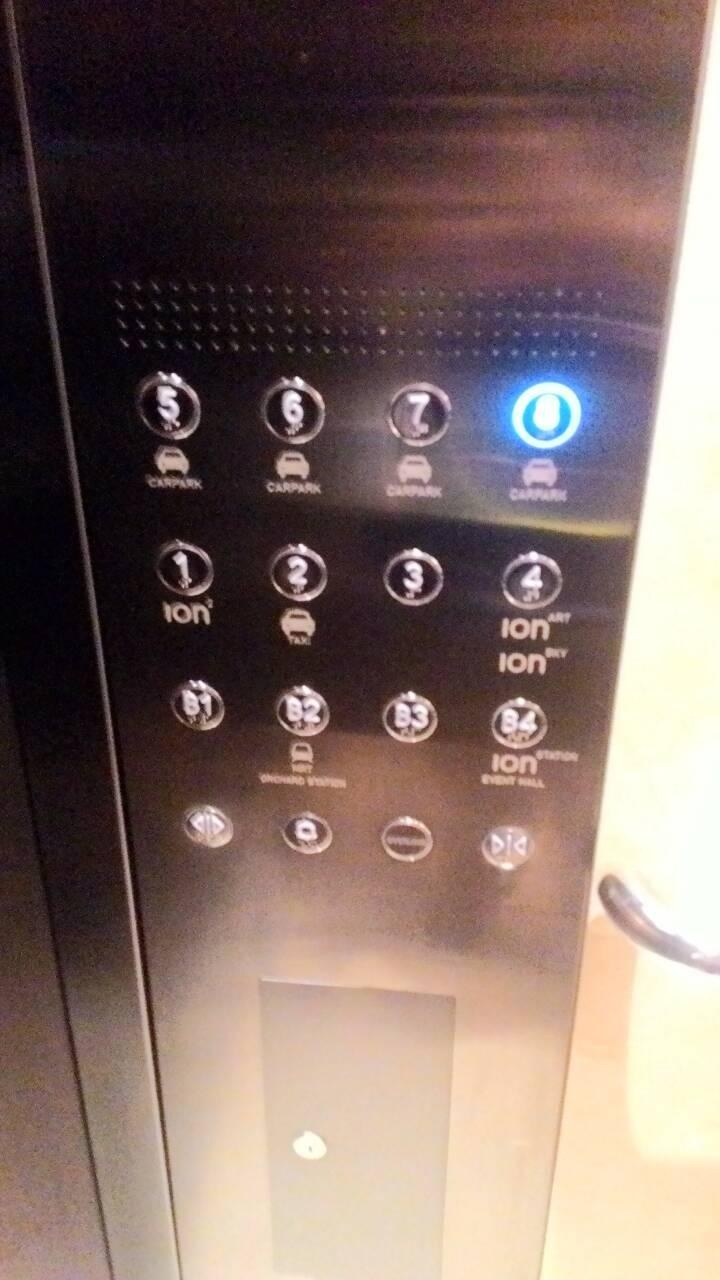1: (151, 534, 217, 599)
2: (266, 539, 332, 604)
3: (381, 543, 447, 608)
4: (499, 547, 565, 612)
5: (133, 366, 207, 445)
6: (257, 370, 331, 449)
7: (383, 373, 457, 452)
8: (511, 374, 585, 453)
B1: (166, 675, 229, 734)
B2: (271, 681, 334, 740)
B3: (380, 686, 443, 745)
B4: (487, 693, 550, 752)
alarm: (277, 806, 336, 858)
blur: (376, 810, 438, 868)
close: (478, 817, 540, 875)
open: (179, 800, 238, 852)
